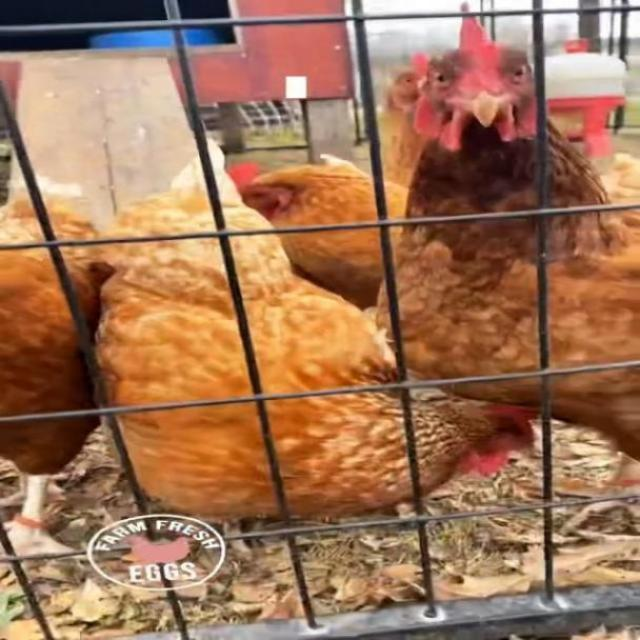Chicken: (90, 140, 532, 552), (368, 2, 640, 537), (0, 177, 117, 562), (220, 154, 414, 307), (366, 54, 439, 188)
